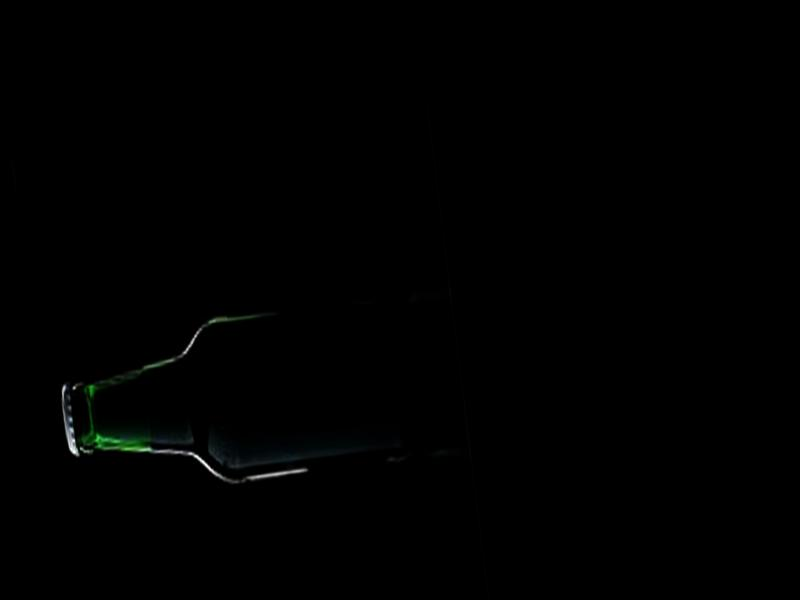Beer: (52, 295, 413, 510)
